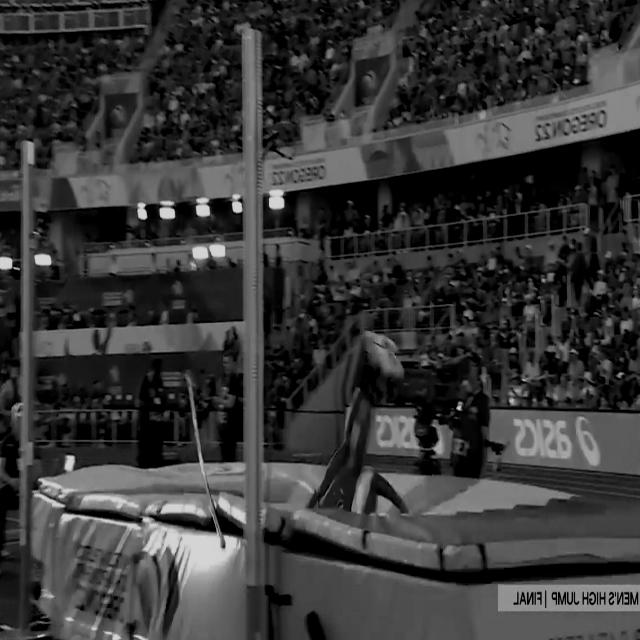land: (303, 322, 411, 506)
